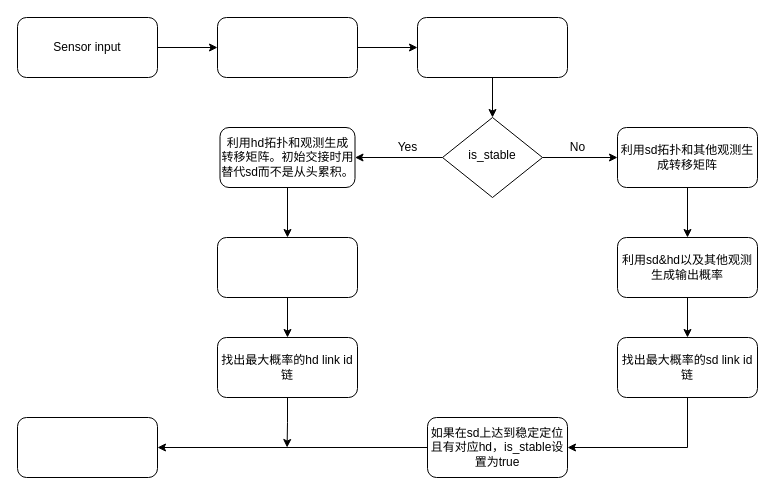
Some shapes in this 775 by 495 pixel diagram are drawn without their labels. The shapes that lost their labels are listed below. From the top down, each one's centre as x and y in pixels, then its label:
At (x=287, y=47): "get_sd & get_hd & 利用映射关系做sd和hd配准".
At (x=492, y=47): "hmm观测序列+1，窗口超过6则按照轨迹压缩的方式丢弃一个。历史概率以一定方式累积到当前窗口。".
At (x=287, y=267): "利用hd和其他观测生成输出概率".
At (x=87, y=447): "Result output".
